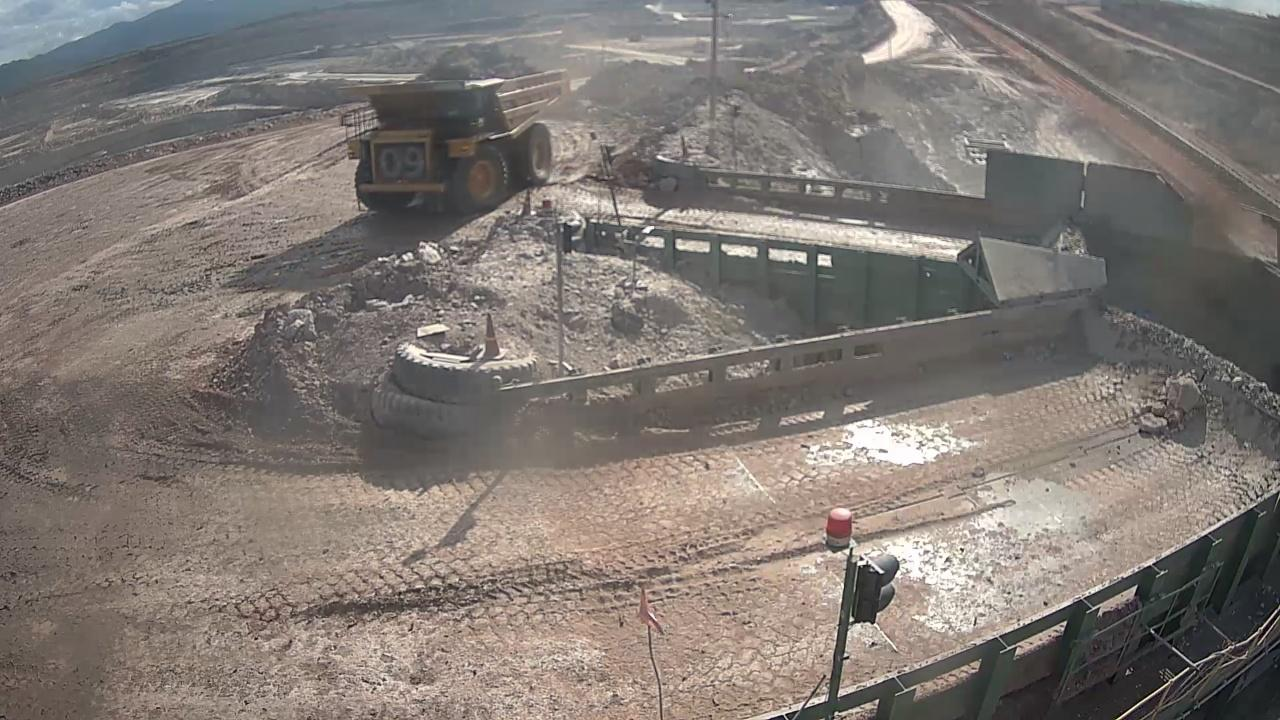front_number: (370, 136, 431, 188)
mining_truck: (338, 66, 568, 217)
